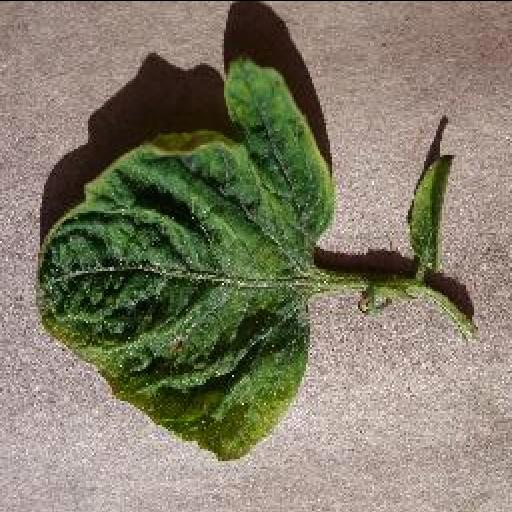disease_tomato: (30, 53, 342, 466)
